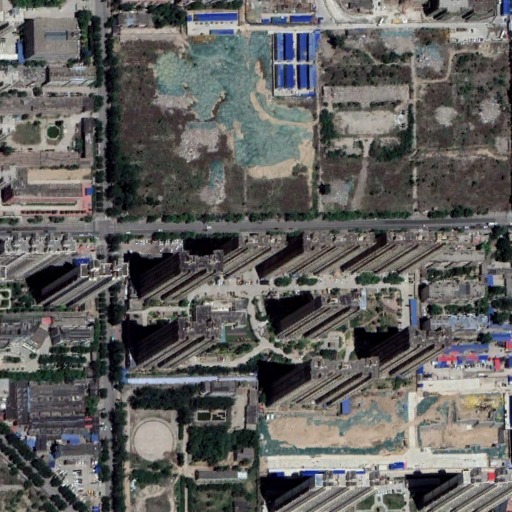cw: (148, 32, 317, 201)
